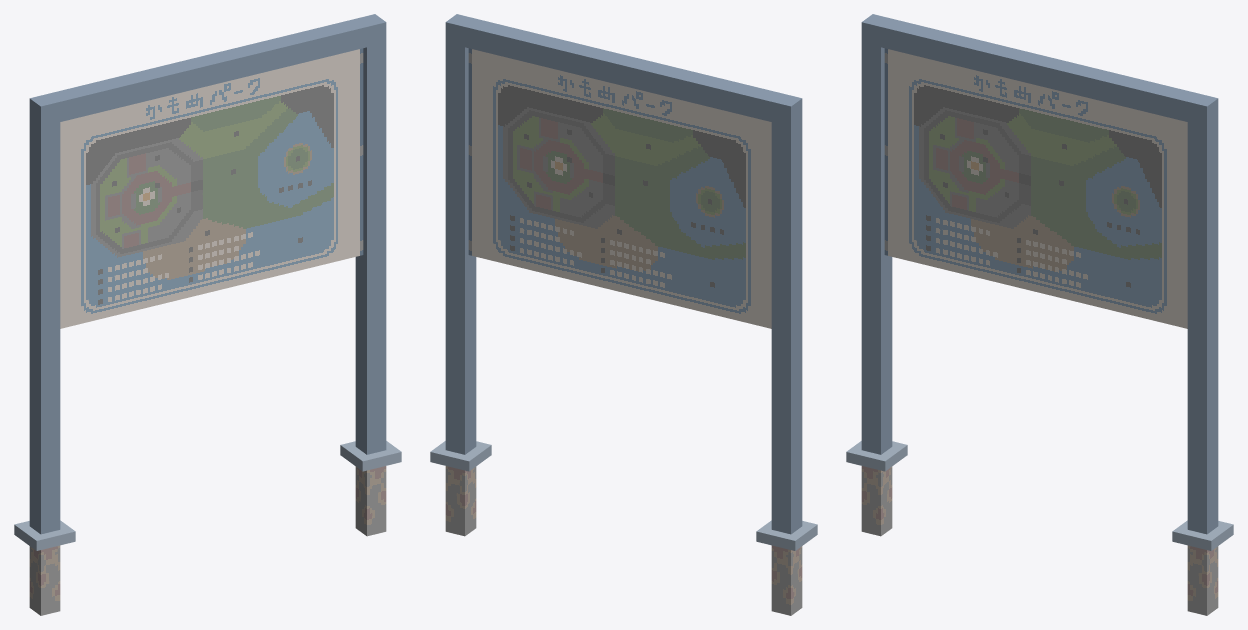
File: 054d_Park_Map.glb
3 views of the same model, side by side, from view 1: azimuth 30°, elevation 25°; view 2: azimuth 150°, elevation 25°; view 3: azimuth 330°, elevation 25° (orthographic).
Visible parts, largest first — view 1: part_0; view 2: part_0; view 3: part_0.
Boxes of the visible parts, x1,y1,x2,y2 form: part_0: (14, 14, 401, 615); part_0: (430, 14, 817, 615); part_0: (846, 14, 1233, 615).
Size of the model in its own units: 1.87 by 2.5 by 0.2.
1 material, 1 textured.
